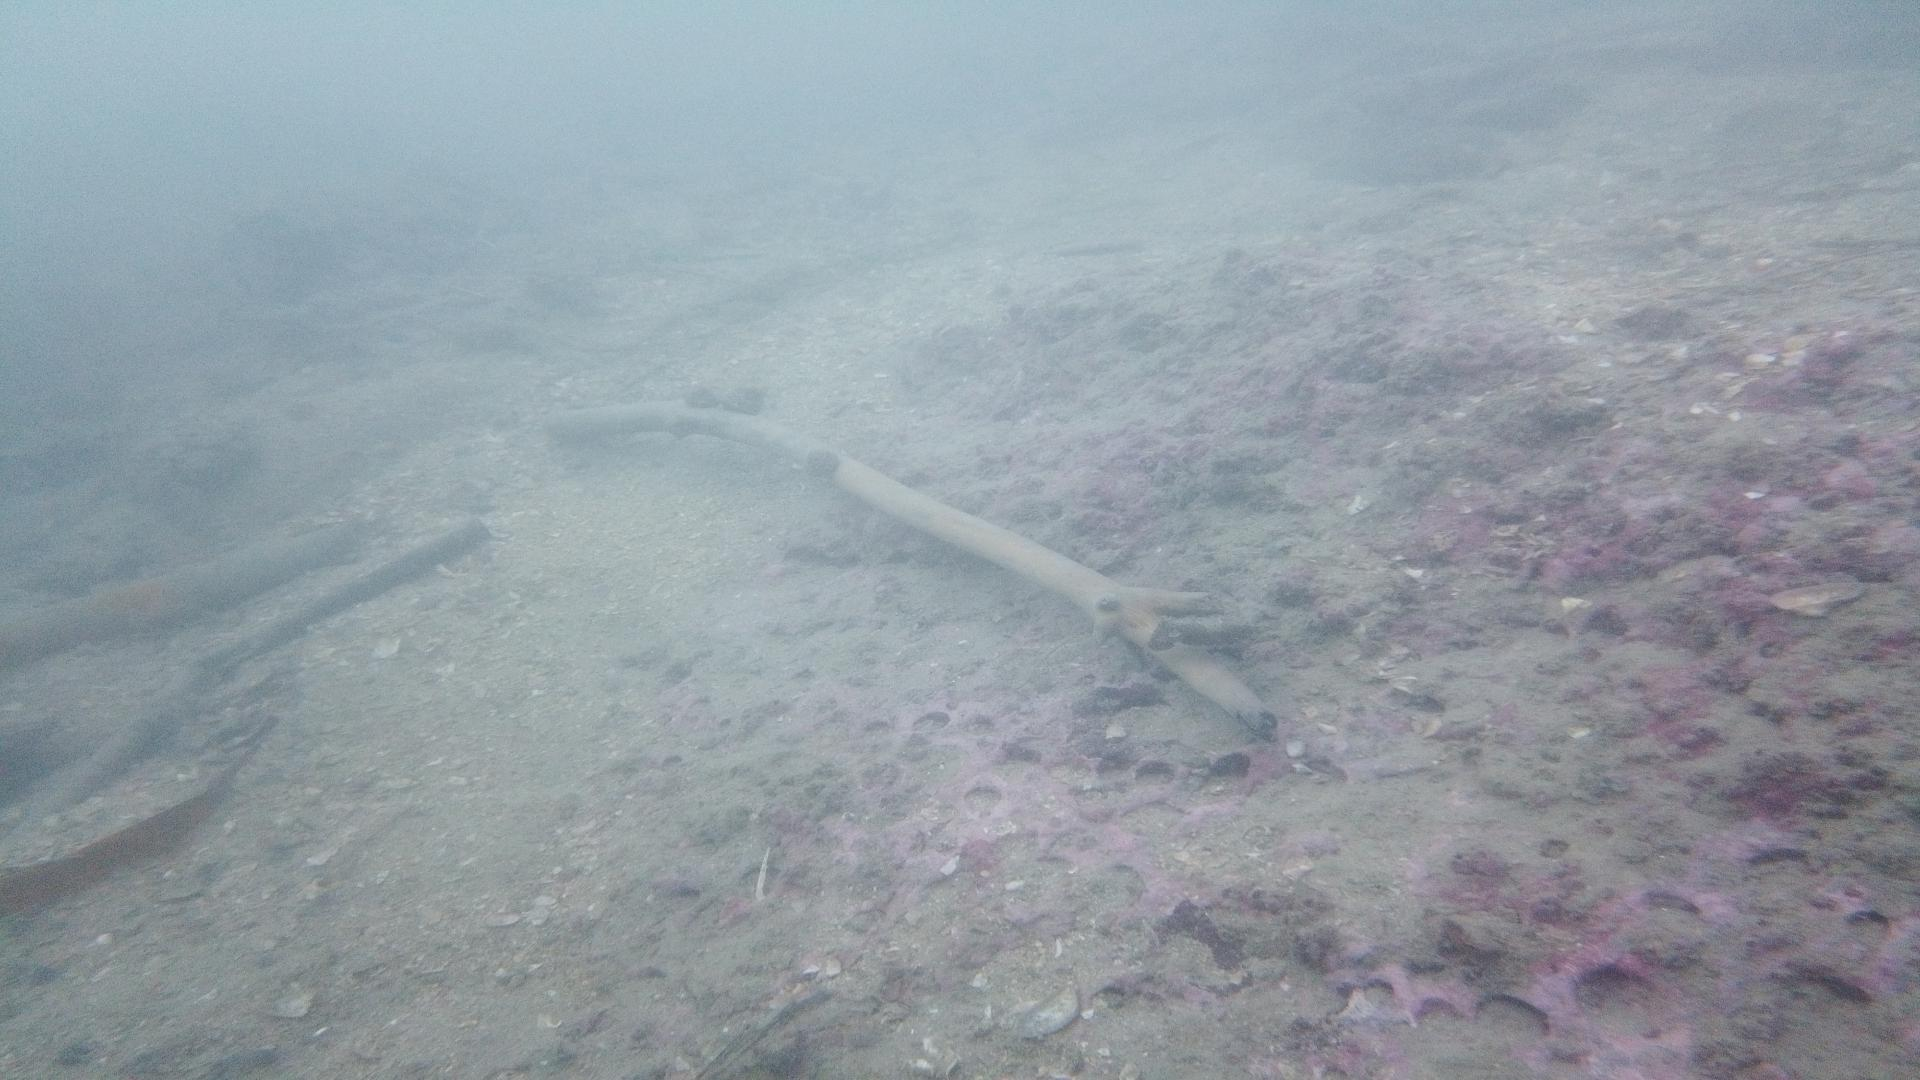wood: (542, 400, 1279, 738)
